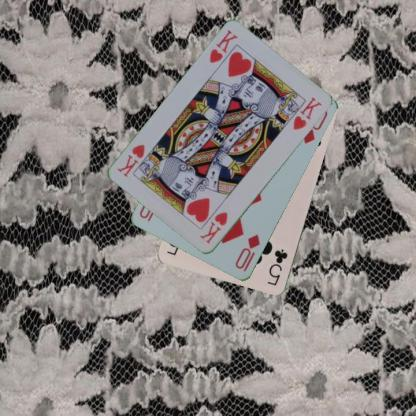10d: (232, 232, 262, 274)
5c: (264, 247, 289, 287)
Kh: (206, 27, 240, 65), (197, 208, 229, 246)
